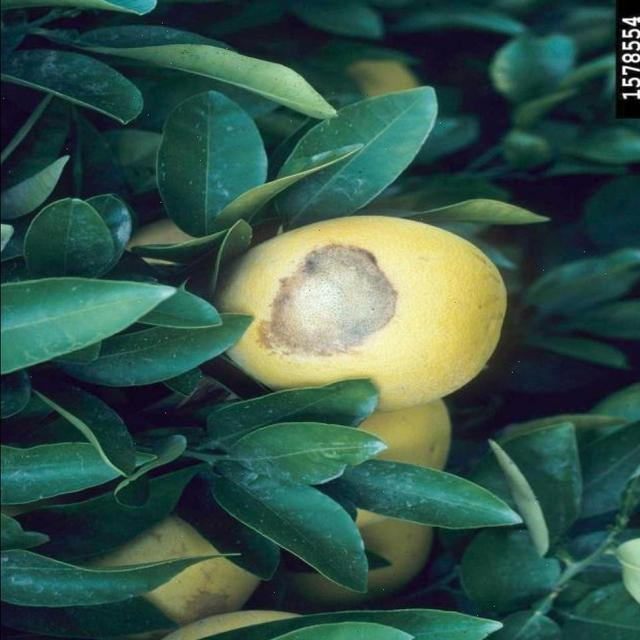Sunscald Fruit: (169, 165, 276, 243)
